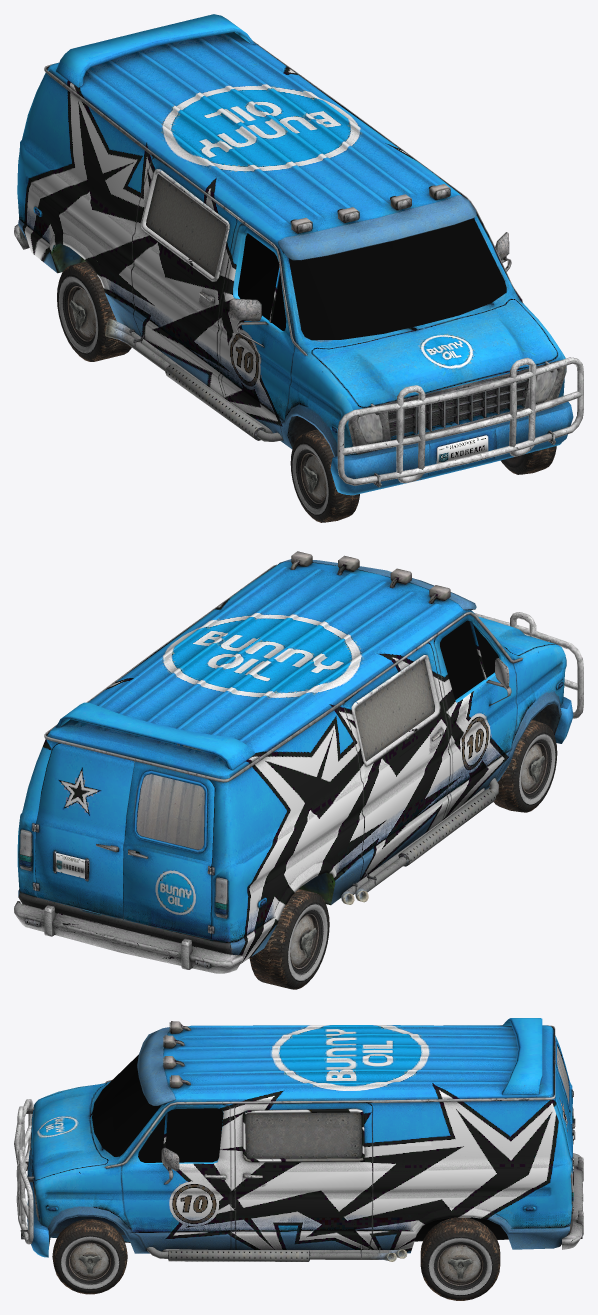
File: Minibus.FBX
3 renders of one model, top to bottom at view 1: azimuth 30°, elevation 25°; view 2: azimuth 150°, elevation 25°; view 3: azimuth 270°, elevation 25°, orthographic. The views are drawn at different scales.
Parts seen in each view (by area): view 1: TruckFirewall, Mini-Bus; view 2: TruckFirewall, Mini-Bus; view 3: TruckFirewall, Mini-Bus.
Boxes of the visible parts, box(x1,y1,x2,y2) form: TruckFirewall: box(14, 14, 583, 495); Mini-Bus: box(57, 261, 556, 522); TruckFirewall: box(14, 551, 583, 973); Mini-Bus: box(249, 719, 557, 989); TruckFirewall: box(14, 1018, 583, 1261); Mini-Bus: box(52, 1217, 500, 1300).
Bounding box in the file's own units: 67.3 × 60.49 × 148.
